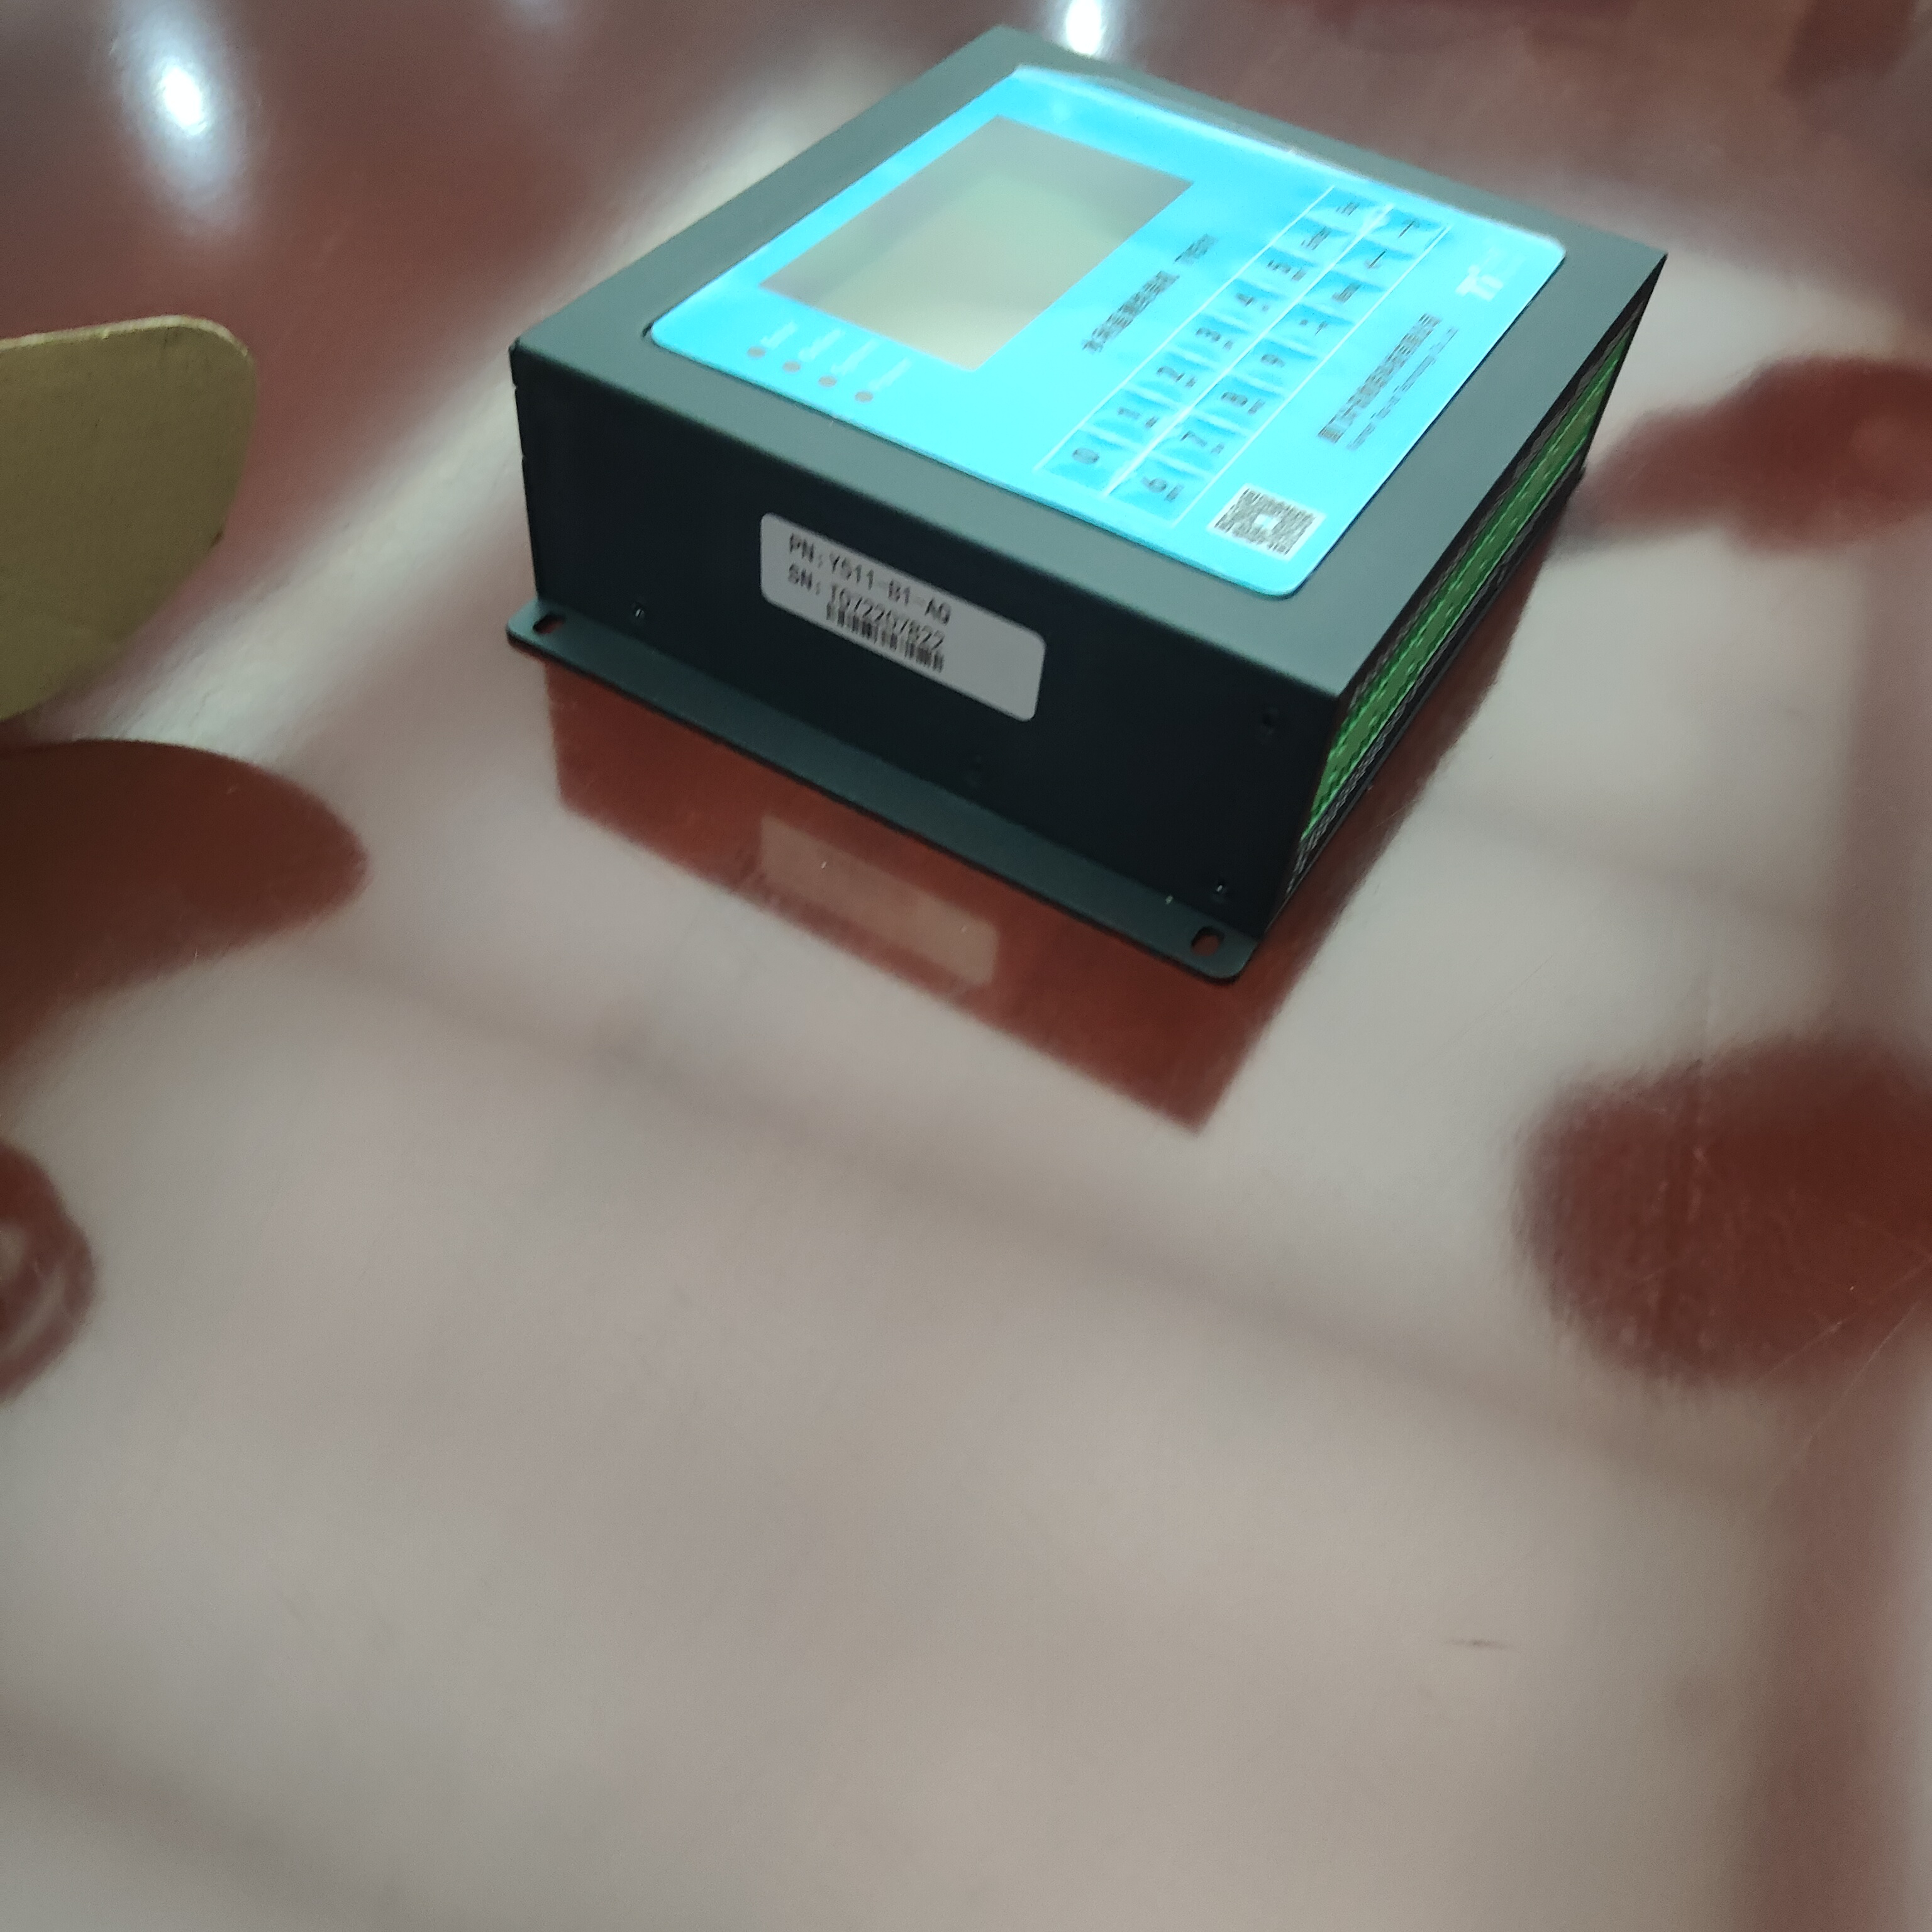slyczd: (483, 12, 1674, 991)
